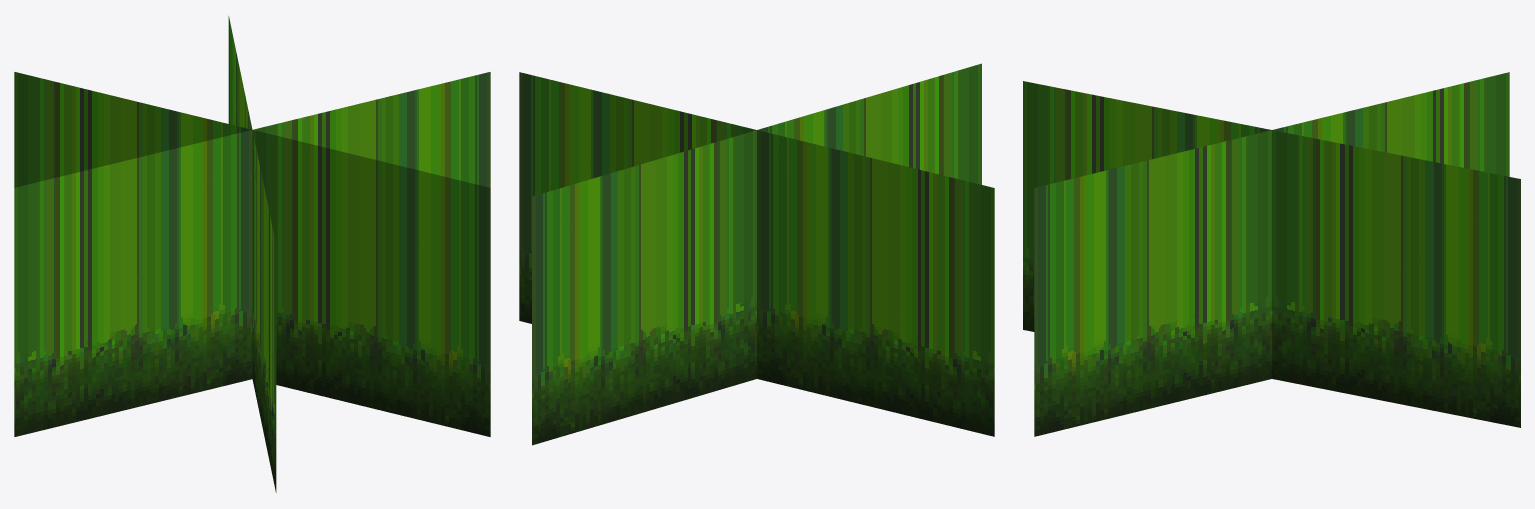
Rendered from Tall_Grass_1.glb.
3 renders of one model, left to right at view 1: azimuth 30°, elevation 25°; view 2: azimuth 150°, elevation 25°; view 3: azimuth 270°, elevation 25°, orthographic.
Visible parts, largest first — view 1: Tall_Grass.001; view 2: Tall_Grass.001; view 3: Tall_Grass.001.
Boxes of the visible parts, x1,y1,x2,y2 form: Tall_Grass.001: [14, 16, 490, 492]; Tall_Grass.001: [519, 63, 994, 445]; Tall_Grass.001: [1023, 72, 1520, 436].
Bounding box in the file's own units: 4 × 2 × 3.63.
Materials: 1 (1 with a texture image).
